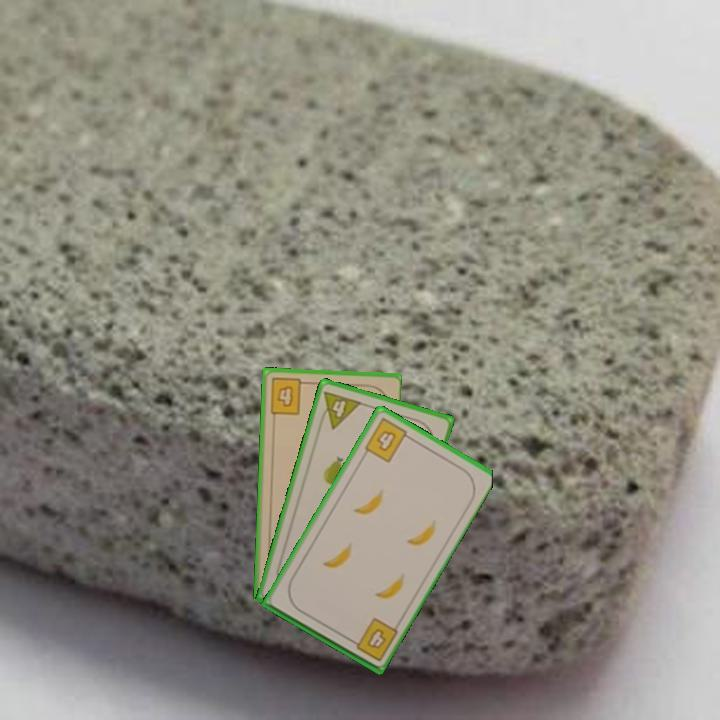4b: (361, 414, 415, 466), (345, 614, 400, 664), (267, 375, 310, 417)
4p: (315, 387, 364, 432)
